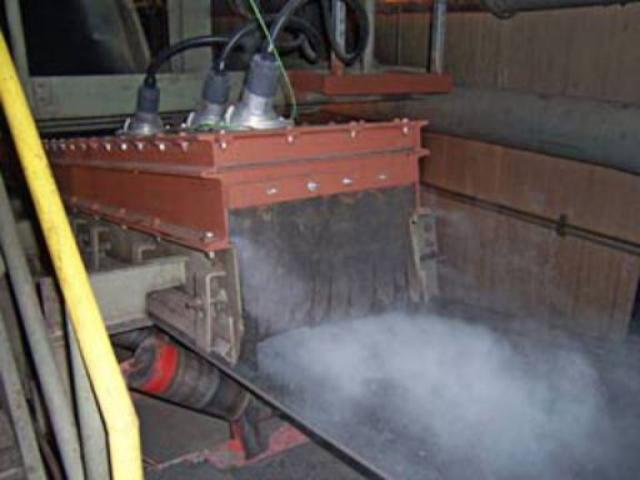conveyor: (194, 289, 640, 480)
